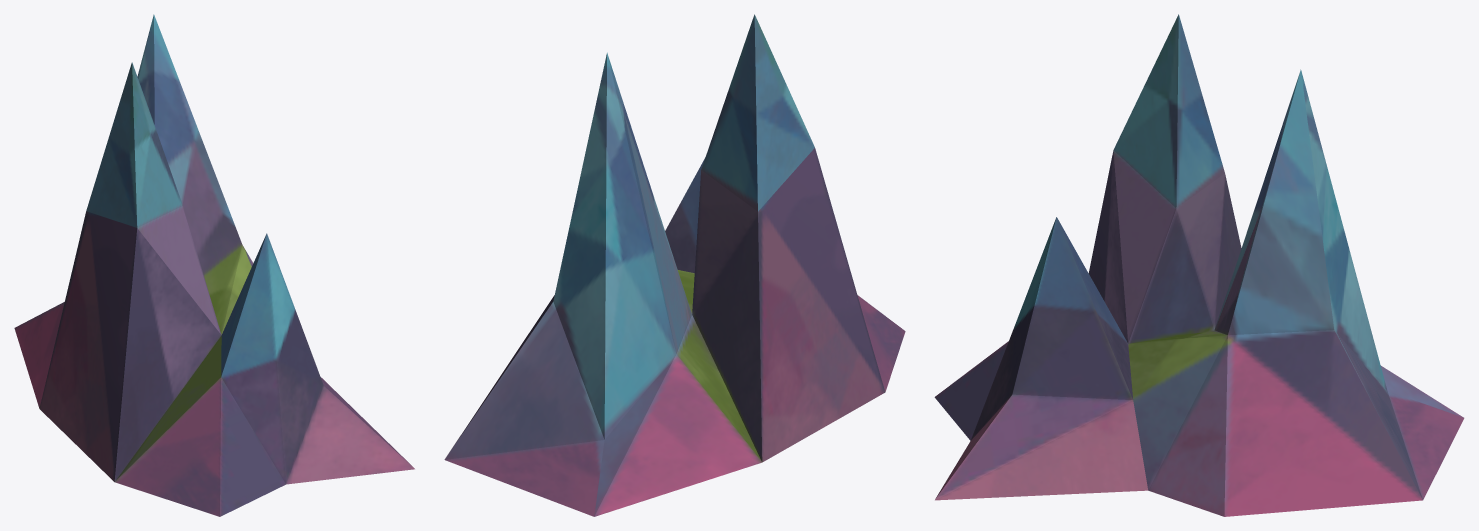
File: environ_rock_var5.fbx
3 views of the same model, side by side, from view 1: azimuth 30°, elevation 25°; view 2: azimuth 150°, elevation 25°; view 3: azimuth 270°, elevation 25° (orthographic). The views are drawn at different scales.
Visible parts, largest first — view 1: environment_rock5; view 2: environment_rock5; view 3: environment_rock5.
Part boxes in pixels (bbox=[...]): environment_rock5: bbox=[14, 14, 414, 516]; environment_rock5: bbox=[444, 14, 905, 516]; environment_rock5: bbox=[934, 14, 1464, 516].
Size of the model in its own units: 0.0361 by 0.0468 by 0.0567.
